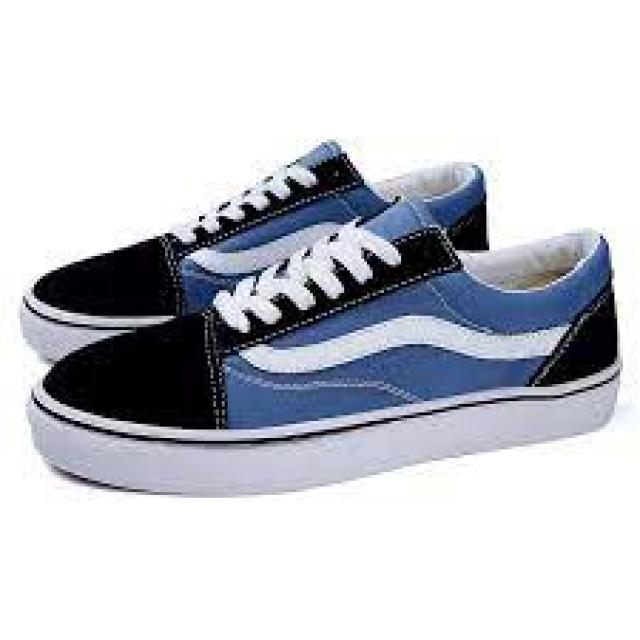shoe: (21, 136, 624, 500), (22, 191, 615, 495)
